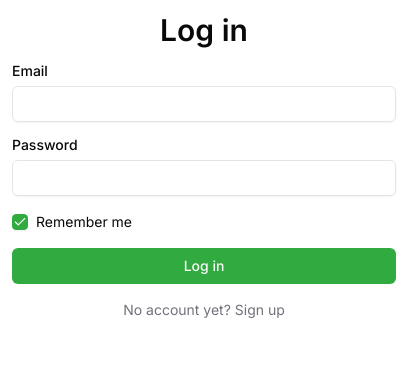
Test: Authentication localization › switches labels and an already rendered login error without clearing user input
In the field labelled "Email": (204, 104) x1=12 y1=86 x2=396 y2=122, type "learner@example.com"
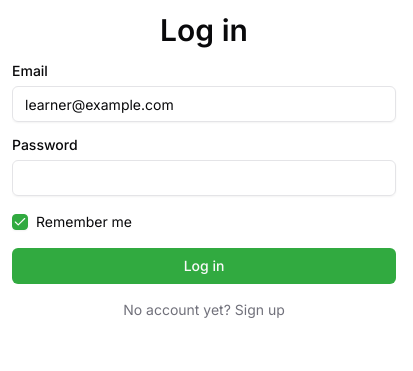
In the password field labelled "Password": (204, 178) x1=12 y1=160 x2=396 y2=196, type "some-password"
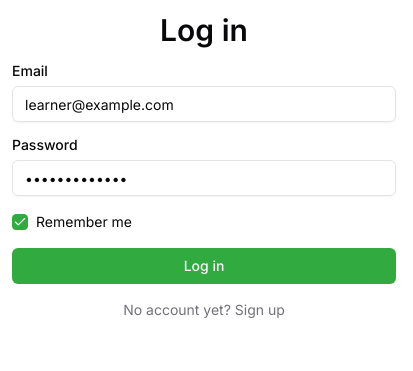
Click the button "Log in": (204, 266) x1=12 y1=248 x2=396 y2=284
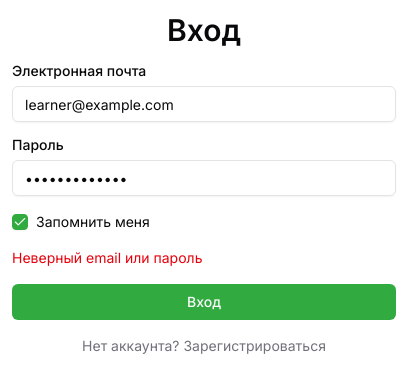
Now the text "Неверный email или пароль" is shown, box x1=12 y1=249 x2=202 y2=266
Now the button "Вход" is shown, box x1=12 y1=284 x2=396 y2=320
